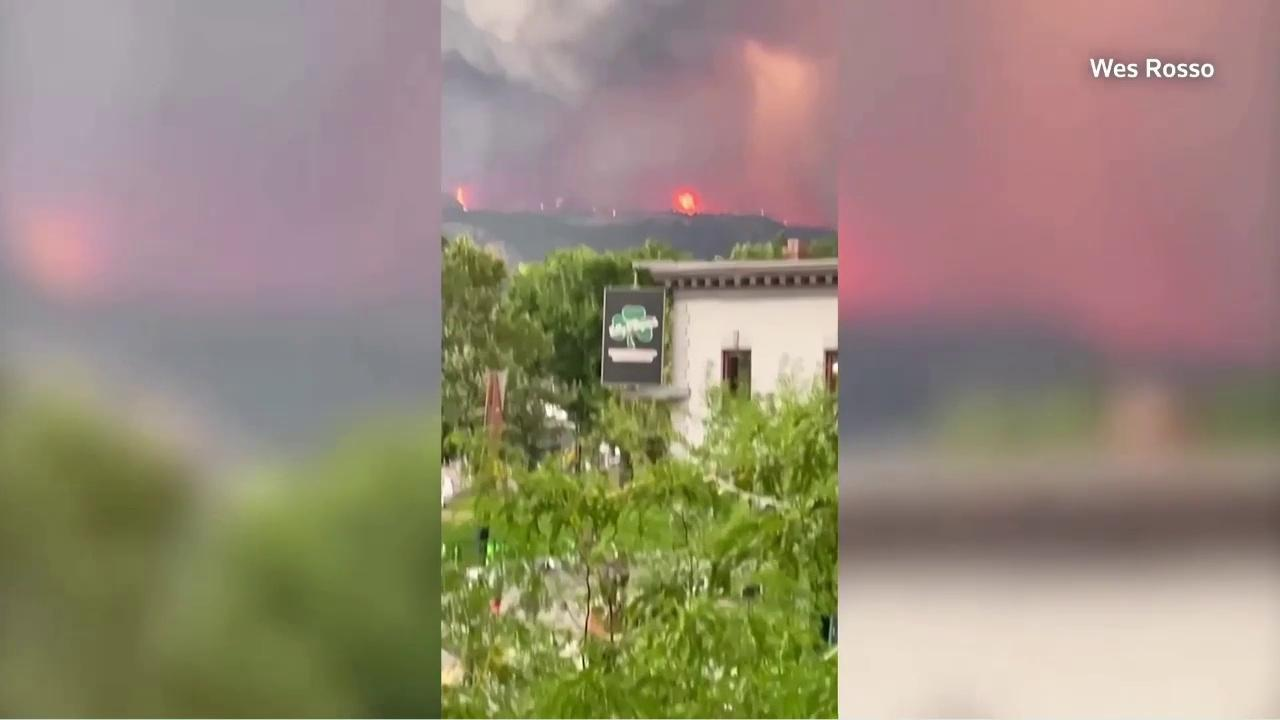fire: (669, 187, 701, 218), (454, 184, 471, 213), (540, 201, 545, 211), (761, 208, 765, 217), (612, 208, 616, 217)
smoke: (443, 0, 836, 236)
